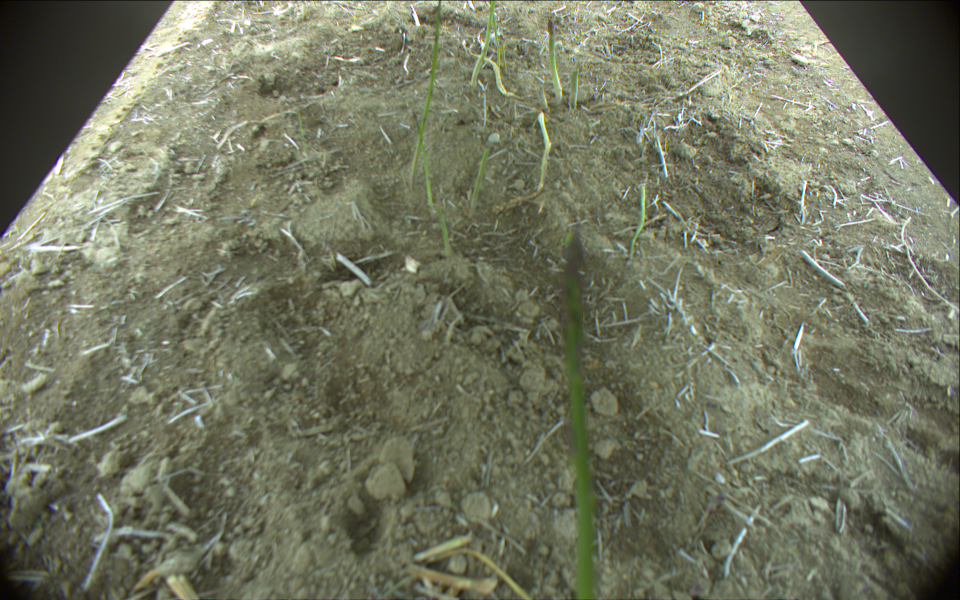aspa: (563, 230, 606, 600), (410, 1, 442, 192), (498, 113, 557, 211), (407, 108, 434, 208), (462, 49, 513, 96), (464, 145, 491, 221), (627, 180, 648, 265), (473, 1, 493, 87), (547, 19, 564, 101), (438, 194, 451, 255), (491, 1, 502, 69), (567, 69, 581, 111), (537, 80, 549, 107), (501, 37, 508, 76)
